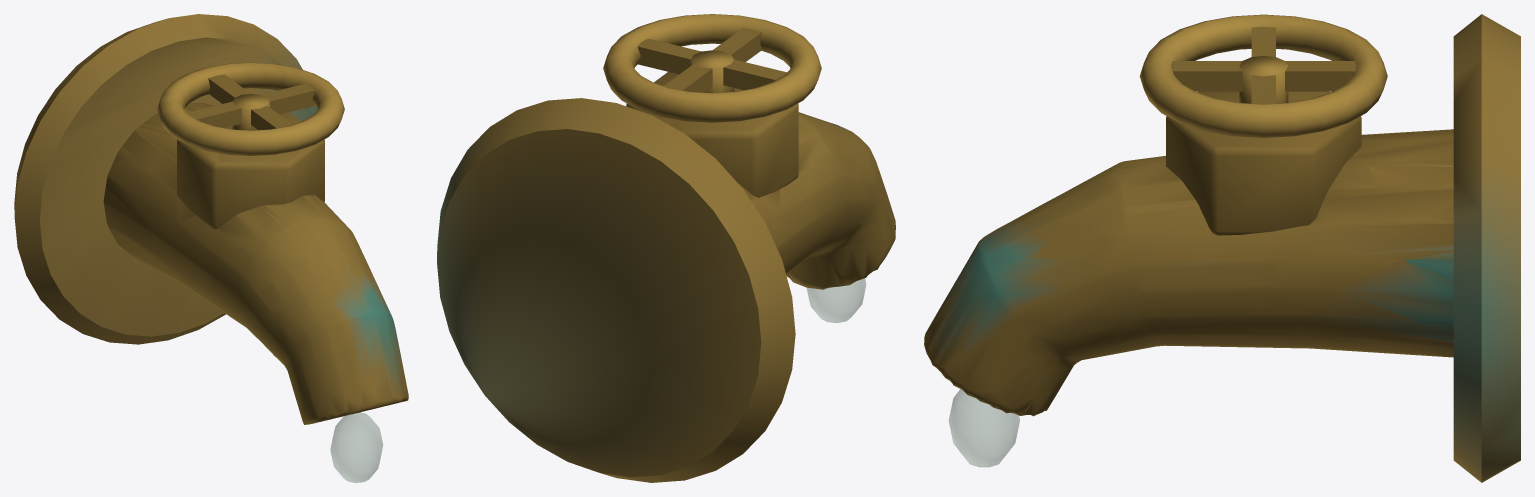
Rendered from mire_spigot_lod1.glb.
The picture shows the model from 3 angles, left to right: view 1: azimuth 30°, elevation 25°; view 2: azimuth 150°, elevation 25°; view 3: azimuth 270°, elevation 25°; orthographic projection. The views are drawn at different scales.
Parts seen in each view (by area): view 1: mire_spigot.001; view 2: mire_spigot.001; view 3: mire_spigot.001.
Boxes of the visible parts, x1=… form: mire_spigot.001: x1=14, y1=14, x2=408, y2=482; mire_spigot.001: x1=437, y1=14, x2=895, y2=482; mire_spigot.001: x1=924, y1=14, x2=1520, y2=482.
Size of the model in its own units: 4.2 by 4.25 by 5.34.
